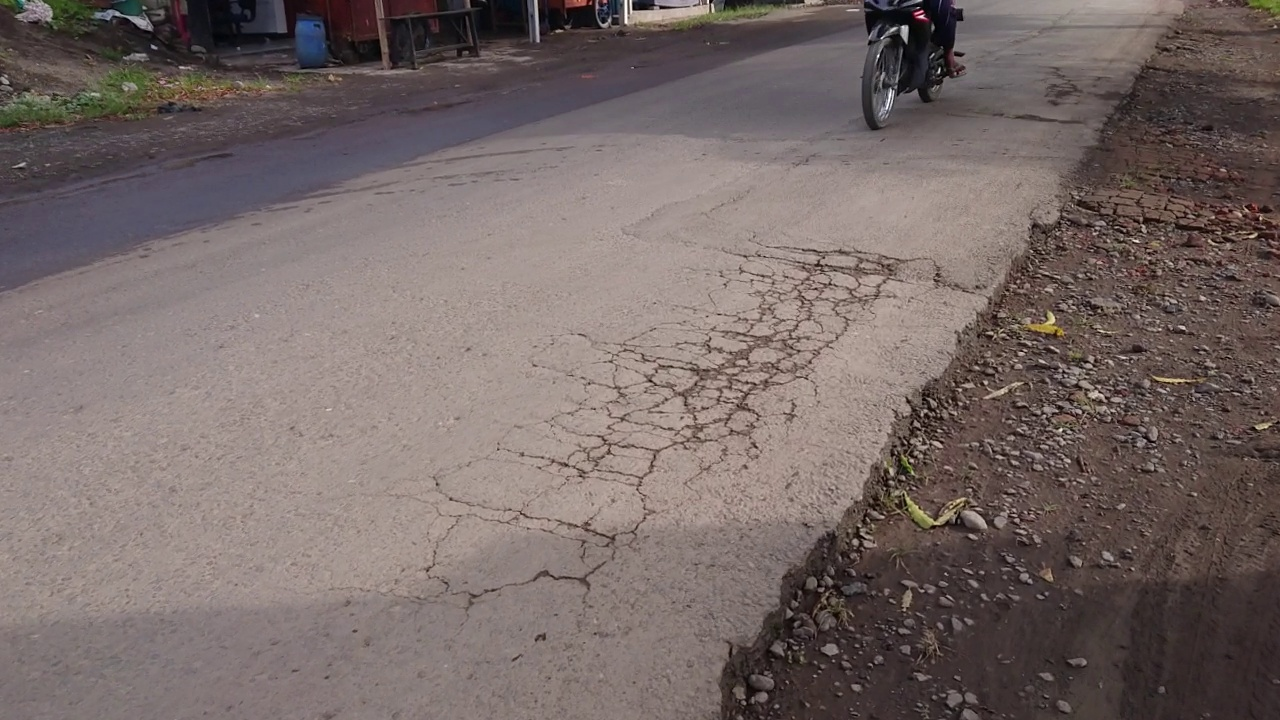Retak: (443, 217, 894, 607)
